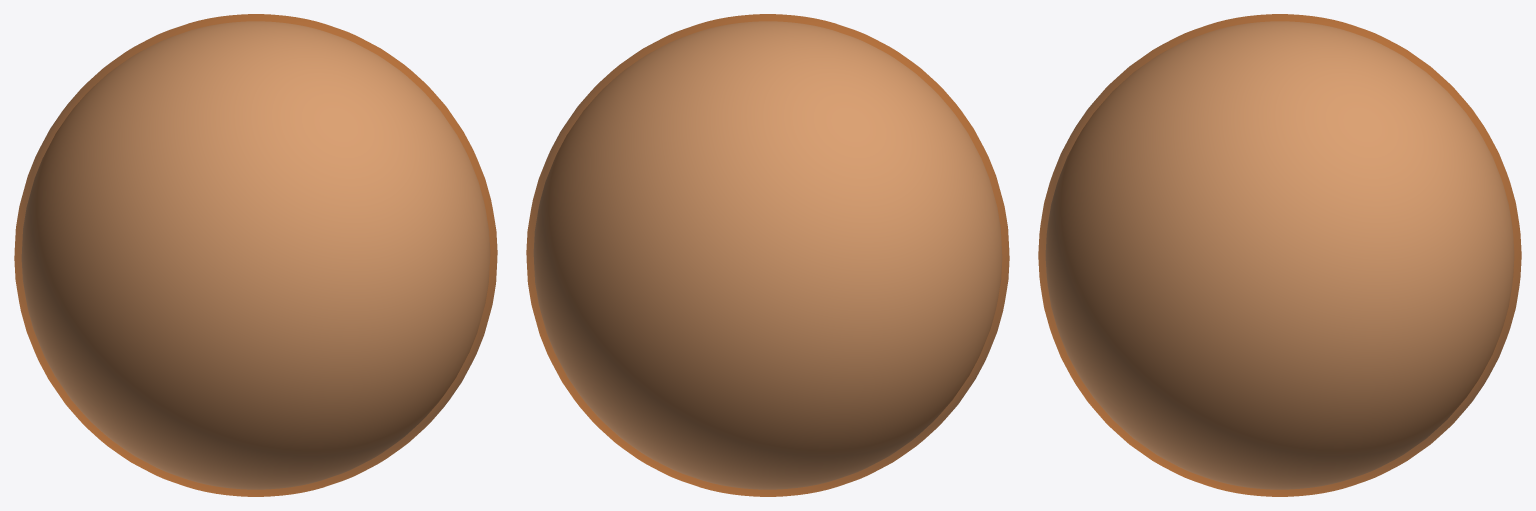
The model's file is Marte.fbx.
3 renders of one model, left to right at view 1: azimuth 30°, elevation 25°; view 2: azimuth 150°, elevation 25°; view 3: azimuth 270°, elevation 25°, orthographic.
Parts seen in each view (by area): view 1: AtmosferaMarte, Marte; view 2: AtmosferaMarte, Marte; view 3: AtmosferaMarte, Marte.
Boxes of the visible parts, x1,y1,x2,y2 form: AtmosferaMarte: (14, 14, 497, 496); Marte: (21, 21, 490, 489); AtmosferaMarte: (526, 14, 1009, 496); Marte: (533, 21, 1002, 489); AtmosferaMarte: (1038, 14, 1521, 496); Marte: (1045, 21, 1514, 489).
Bounding box in the file's own units: 206 × 206 × 206.
